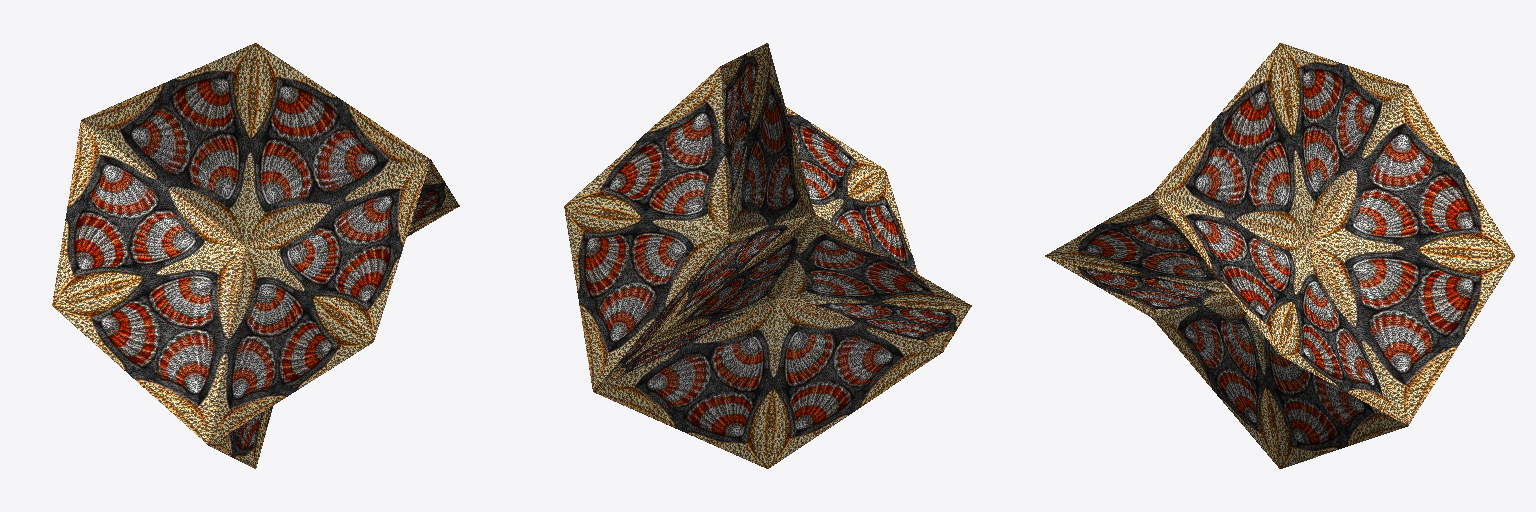
3 renders of one model, left to right at view 1: azimuth 30°, elevation 25°; view 2: azimuth 150°, elevation 25°; view 3: azimuth 270°, elevation 25°, orthographic.
Size of the model in its own units: 2.24 by 2.24 by 2.24.
1 materials, 1 textured.